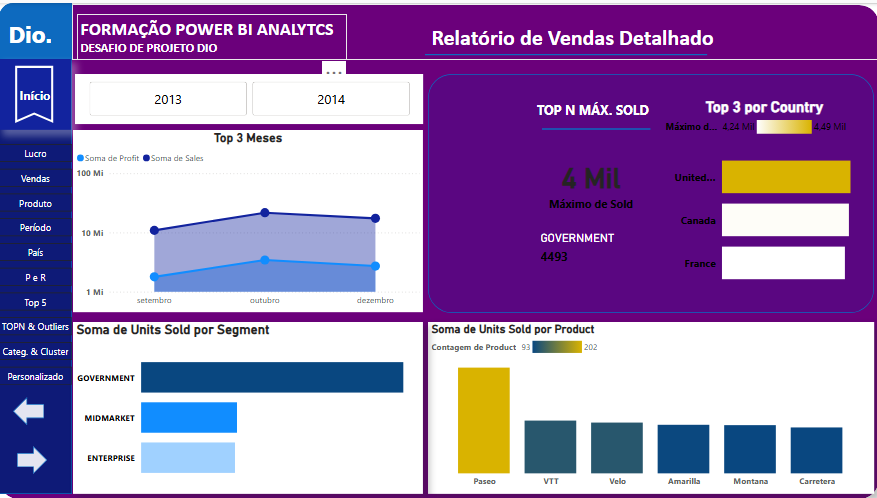

What the dashboard file says about the page in this screenshot:
{"tool":"powerbi","page":{"name":"Início","canvas":[1280,720],"ordinal":0},"visuals":[{"type":"shape","box":[0,0,106,715],"z":0,"group":"g3"},{"type":"shape","title":"Fundo","box":[0,1.9,1280,719],"z":0},{"type":"textbox","box":[632.1,18.2,180.4,47.9],"z":0,"group":"g1"},{"type":"shape","box":[113.4,40.7,284.8,18.2],"z":0,"group":"g2"},{"type":"shape","box":[600.9,91.2,668.1,322],"z":0,"group":"g4"},{"type":"shape","box":[112.4,319.7,457,394.5],"z":0,"group":"g5"},{"type":"shape","box":[0,0,106,82.6],"z":1000,"group":"g3"},{"type":"textbox","box":[114.9,0,283.3,56],"z":1000,"group":"g2"},{"type":"slicer","fields":{"Values":["financials.Date"]},"box":[815.8,1.9,348.9,60.6],"z":1000,"group":"g1"},{"type":"areaChart","title":"Total de Vendas e Total de Lucro por Mês","fields":{"Category":["financials.Date.Variation.Hierarquia de datas.Ano","financials.Date.Variation.Hierarquia de datas.Mês"],"Y":["Sum(financials.Sales)"]},"box":[603.9,84.1,664.3,325.9],"z":1000,"group":"g4"},{"type":"clusteredBarChart","fields":{"Y":["Sum(financials.Sales)"],"Category":["financials.Product"]},"box":[113.1,313.3,451.1,384.6],"z":1000,"group":"g5"},{"type":"shape","box":[113.7,474.2,451.1,225.5],"z":1000},{"type":"group","id":"g1","title":"Filtro de Data","box":[632.1,1.9,647.8,64.3],"z":2000},{"type":"image","title":"Borracha","box":[1189.6,4.2,66.8,57.9],"z":2000,"group":"g1"},{"type":"textbox","title":"Logo Dio","box":[9.2,22,89.7,53.1],"z":2000,"group":"g3"},{"type":"clusteredBarChart","title":"Vendas por Segmento","fields":{"Y":["Sum(financials.Sales)"],"Category":["financials.Segment"]},"box":[111.9,312.7,457.5,398.4],"z":2000,"group":"g5"},{"type":"group","id":"g2","title":"Subtítulo","box":[113.4,0,284.7,60.2],"z":3000},{"type":"actionButton","box":[1169.8,7.3,110.1,57.8],"z":3000,"group":"g1"},{"type":"actionButton","title":"Botão Produto","box":[128.1,225.2,191.2,69.2],"z":3000,"group":"g5"},{"type":"actionButton","title":"Botão Segmento","box":[359,226.6,179.1,70.5],"z":4000,"group":"g5"},{"type":"group","id":"g3","title":"Dio","box":[0,0,106,715],"z":5000},{"type":"shape","box":[591.2,75,683.6,640],"z":6000,"group":"g6"},{"type":"shape","box":[25.8,643.8,43.9,40.9],"z":6000},{"type":"image","box":[398.4,3,122.7,57.6],"z":7000},{"type":"group","id":"g4","title":"Gráfico de Linha","box":[600.9,84.1,668.1,329.1],"z":7000,"group":"g6"},{"type":"group","id":"g5","title":"Grupo 1","box":[111.9,225.2,457.6,488.9],"z":8000},{"type":"pivotTable","title":"Vendas por Ano Trimestre e Mês","fields":{"Values":["Sum(financials.Sales)"],"Rows":["financials.Date.Variation.Hierarquia de datas.Trimestre","financials.Date.Variation.Hierarquia de datas.Mês"],"Columns":["financials.Date.Variation.Hierarquia de datas.Ano"]},"box":[597,429,672,279.1],"z":8000,"group":"g6"},{"type":"pageNavigator","box":[0,82.7,106.7,561.6],"z":9000},{"type":"group","id":"g6","title":"Grupo 2","box":[591.2,75,683.6,640],"z":10000},{"type":"shape","box":[116.8,71.5,223.2,120.3],"z":10500,"group":"g7"},{"type":"card","fields":{"Values":["Sum(financials.Sales)"]},"box":[132.5,87.2,191.8,88.9],"z":11000,"group":"g7"},{"type":"shape","box":[345.2,71.5,223.2,120.3],"z":12250,"group":"g7"},{"type":"card","fields":{"Values":["Sum(financials.Units Sold)"]},"box":[353.4,84.2,192.3,93.4],"z":12500,"group":"g7"},{"type":"group","id":"g7","title":"Grupo 3","box":[116.8,71.5,451.7,120.3],"z":12501}]}

Visuals, with their boxes on the page's 1280x720 design canvas (x1, y1, x2, y2). These are canvas units, not pixel positions in the 877x498 screenshot, which may show the page scaled, cropped or inside an application window:
shape: locate(0, 0, 106, 715)
"Fundo" shape: locate(0, 2, 1280, 721)
textbox: locate(632, 18, 812, 66)
shape: locate(113, 41, 398, 59)
shape: locate(601, 91, 1269, 413)
shape: locate(112, 320, 569, 714)
shape: locate(0, 0, 106, 83)
textbox: locate(115, 0, 398, 56)
slicer - financials.Date: locate(816, 2, 1165, 62)
"Total de Vendas e Total de Lucro por Mês" areaChart: locate(604, 84, 1268, 410)
clusteredBarChart - Sum(financials.Sales) x financials.Product: locate(113, 313, 564, 698)
shape: locate(114, 474, 565, 700)
"Filtro de Data" group: locate(632, 2, 1280, 66)
"Borracha" image: locate(1190, 4, 1256, 62)
"Logo Dio" textbox: locate(9, 22, 99, 75)
"Vendas por Segmento" clusteredBarChart: locate(112, 313, 569, 711)
"Subtítulo" group: locate(113, 0, 398, 60)
actionButton: locate(1170, 7, 1280, 65)
"Botão Produto" actionButton: locate(128, 225, 319, 294)
"Botão Segmento" actionButton: locate(359, 227, 538, 297)
"Dio" group: locate(0, 0, 106, 715)
shape: locate(591, 75, 1275, 715)
shape: locate(26, 644, 70, 685)
image: locate(398, 3, 521, 61)
"Gráfico de Linha" group: locate(601, 84, 1269, 413)
"Grupo 1" group: locate(112, 225, 570, 714)
"Vendas por Ano Trimestre e Mês" pivotTable: locate(597, 429, 1269, 708)
pageNavigator: locate(0, 83, 107, 644)
"Grupo 2" group: locate(591, 75, 1275, 715)
shape: locate(117, 72, 340, 192)
card - Sum(financials.Sales): locate(132, 87, 324, 176)
shape: locate(345, 72, 568, 192)
card - Sum(financials.Units Sold): locate(353, 84, 546, 178)
"Grupo 3" group: locate(117, 72, 568, 192)
